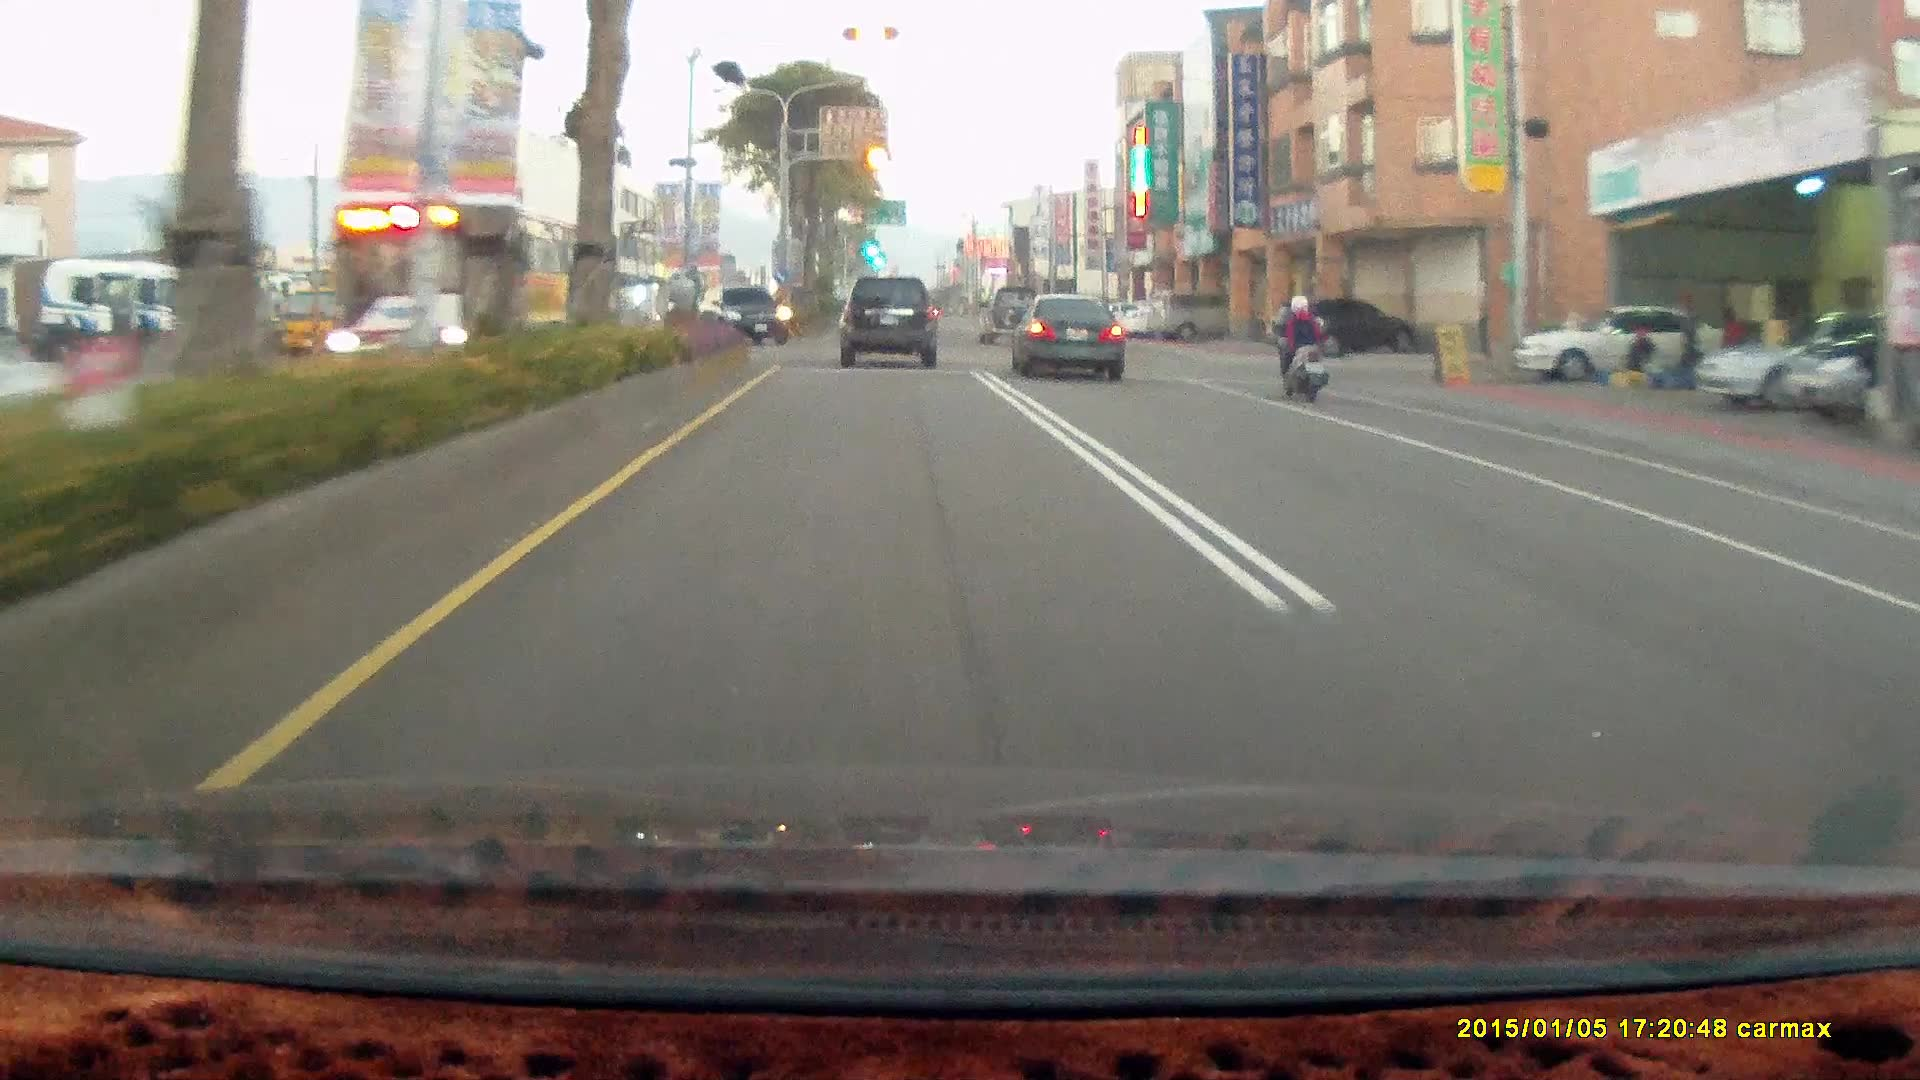pedestrian: (1677, 291, 1705, 389), (1718, 302, 1746, 382), (1627, 325, 1657, 389)
rider: (1262, 288, 1341, 412), (1270, 294, 1328, 402)
vehicle: (329, 201, 625, 379), (319, 196, 620, 372), (1691, 313, 1914, 414), (1773, 302, 1920, 429), (1701, 308, 1882, 409), (1509, 303, 1731, 382), (1782, 302, 1919, 429), (1540, 302, 1737, 377), (1013, 297, 1132, 391), (1002, 292, 1122, 380), (839, 281, 943, 373), (1268, 299, 1419, 362), (838, 276, 936, 369), (1268, 298, 1418, 360), (0, 343, 75, 456), (706, 283, 791, 345), (708, 284, 792, 346), (1148, 292, 1250, 342), (1151, 292, 1232, 345), (976, 286, 1041, 347)
